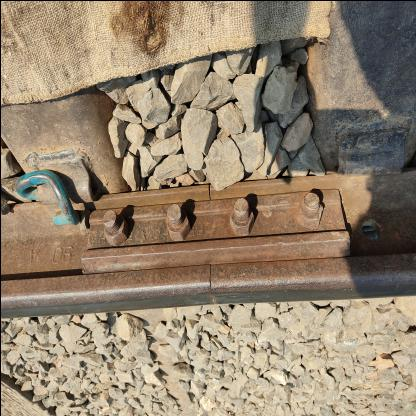Non Defective: (77, 183, 362, 316), (0, 139, 95, 250)
